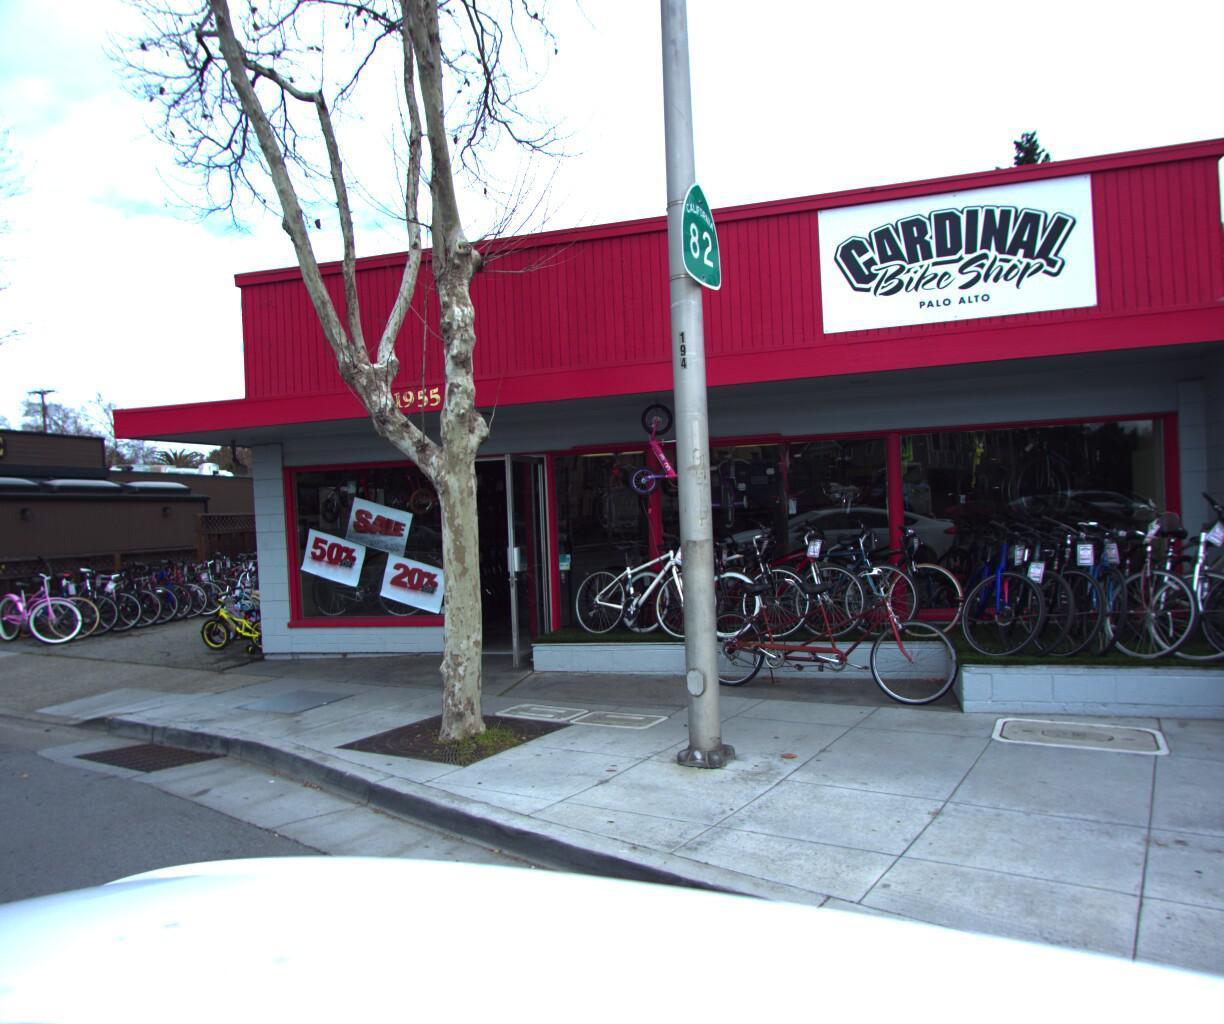bicycle: (760, 554, 962, 705), (777, 511, 954, 639), (713, 514, 879, 639), (1093, 484, 1207, 659), (652, 516, 811, 640), (576, 518, 722, 639), (1048, 498, 1147, 657), (1138, 496, 1224, 660), (1006, 500, 1093, 657), (969, 501, 1046, 656), (9, 550, 110, 636), (33, 546, 134, 630), (237, 551, 334, 634), (219, 562, 318, 639), (201, 571, 302, 643), (59, 556, 152, 626), (192, 580, 285, 649), (1186, 488, 1224, 657), (76, 554, 169, 622), (94, 553, 186, 619), (113, 551, 203, 615), (131, 549, 218, 612), (144, 548, 232, 609), (161, 546, 246, 607), (177, 545, 261, 604), (195, 543, 276, 601), (210, 542, 289, 599)
